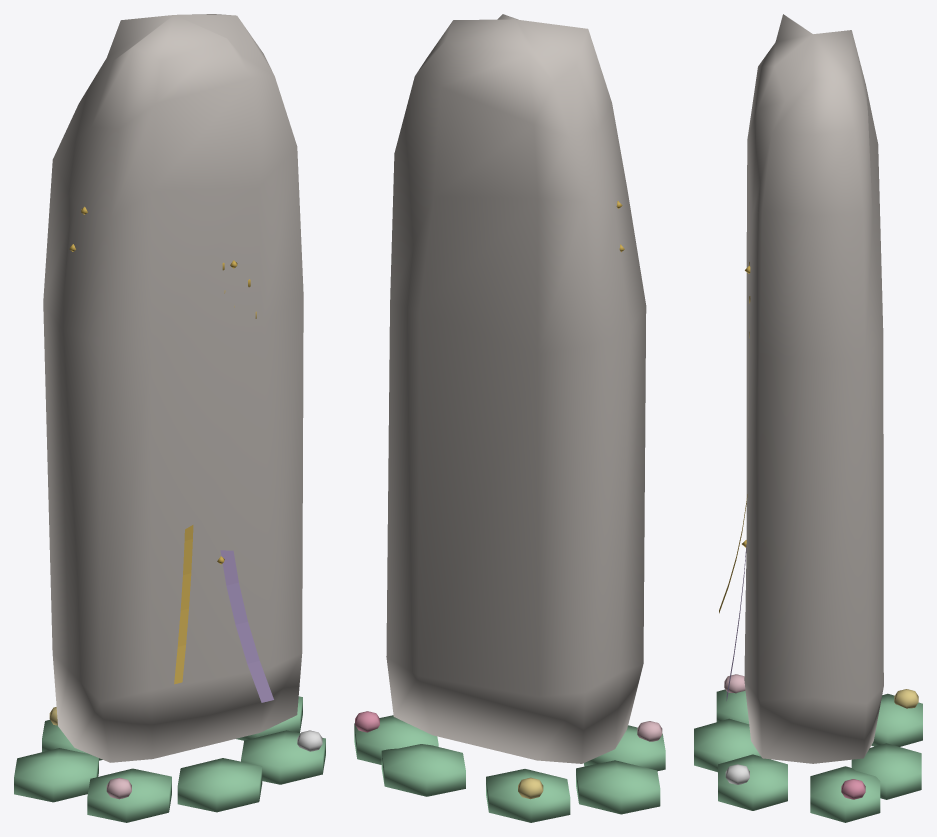
File: rite_standing_stone_c.gltf
The picture shows the model from 3 angles, left to right: view 1: azimuth 30°, elevation 25°; view 2: azimuth 150°, elevation 25°; view 3: azimuth 270°, elevation 25°; orthographic projection. The views are drawn at different scales.
Parts seen in each view (by area): view 1: rite_standing_stone_c; view 2: rite_standing_stone_c; view 3: rite_standing_stone_c.
Part boxes in pixels (<box>): rite_standing_stone_c: <box>14,14,325,822</box>; rite_standing_stone_c: <box>354,14,665,822</box>; rite_standing_stone_c: <box>694,14,922,822</box>.
Size of what is drawn, in the model's own units: 2.13 by 5.17 by 1.47.
